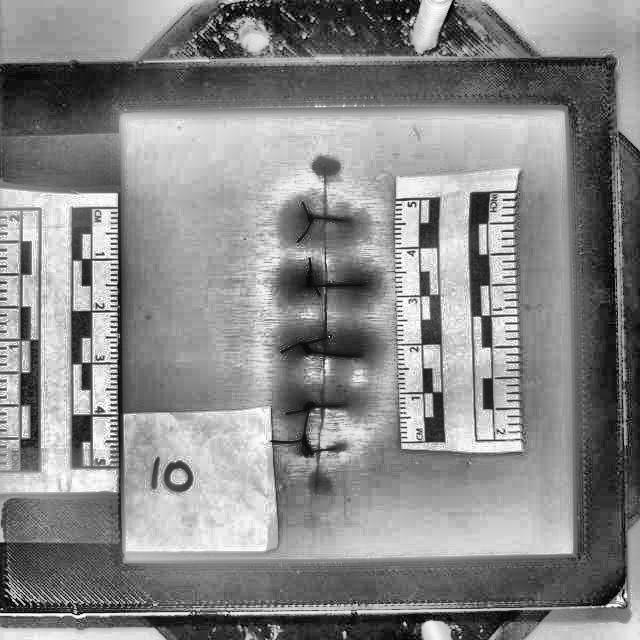incision_line: (311, 161, 333, 495)
scale_marker: (392, 248, 436, 296)
suture_d: (318, 284, 332, 354), (318, 215, 331, 283), (316, 352, 326, 406), (315, 407, 327, 450)
suture_l: (304, 448, 323, 460), (304, 280, 322, 290), (305, 214, 327, 222), (305, 347, 321, 356), (307, 403, 321, 409)
suture_r: (323, 281, 360, 293), (322, 349, 356, 361), (326, 214, 348, 224), (323, 446, 343, 456), (322, 402, 343, 409)
